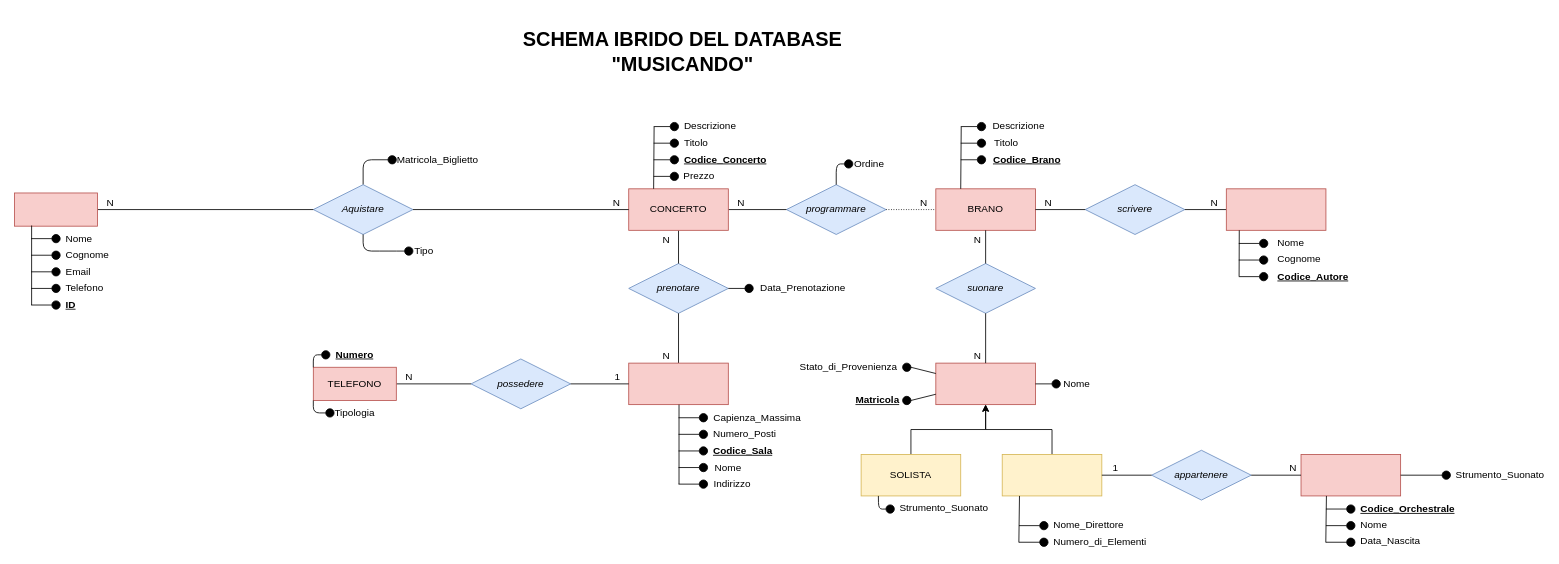
This 1559x564 diagram has some shape labels left out. The centre of each missing label's shape, as x and y in pixels:
"AUTORE" goes at pixel 1275 209.
"ESECUTORE" goes at pixel 985 383.
"ORCHESTRA" goes at pixel 1051 475.
"ORCHESTRALE" goes at pixel 1350 475.
"SALA_CONCERTO" goes at pixel 678 383.
"SPETTATORE" goes at pixel 56 209.
